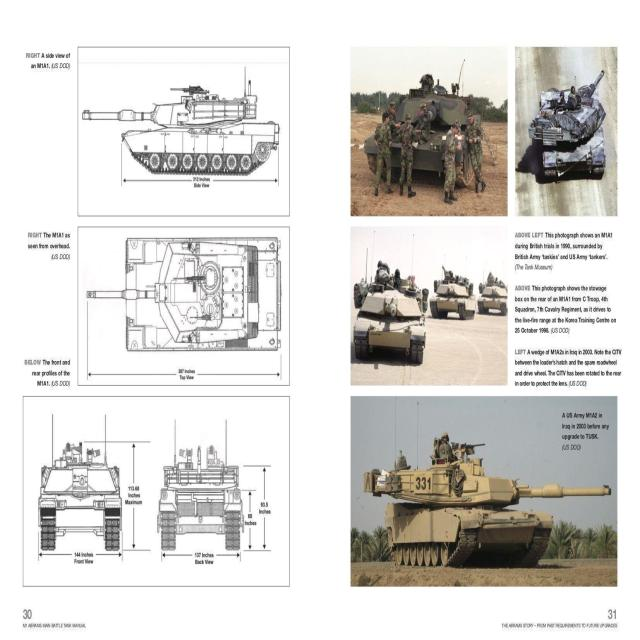Tanks: (362, 429, 615, 564), (99, 228, 284, 375), (82, 76, 290, 188), (366, 63, 488, 196), (31, 422, 134, 562), (156, 417, 246, 562), (536, 69, 611, 196), (352, 247, 429, 367), (432, 247, 472, 335), (476, 250, 507, 329)
